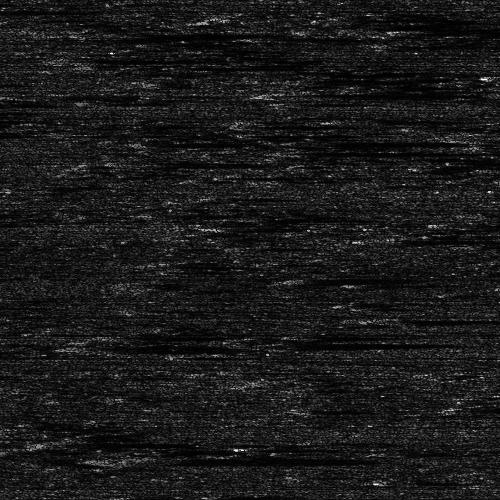rock: (0, 47, 184, 70), (149, 336, 378, 353), (65, 454, 180, 465), (413, 128, 500, 141), (362, 315, 425, 320), (80, 158, 143, 163)
shadow: (80, 47, 273, 70), (264, 336, 439, 353), (123, 454, 348, 465), (112, 158, 244, 163), (394, 315, 500, 320), (0, 344, 36, 357), (0, 114, 34, 123)
